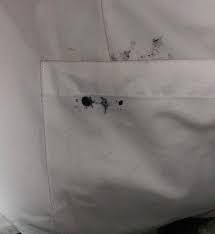ink: (117, 38, 163, 60), (75, 95, 129, 113)
